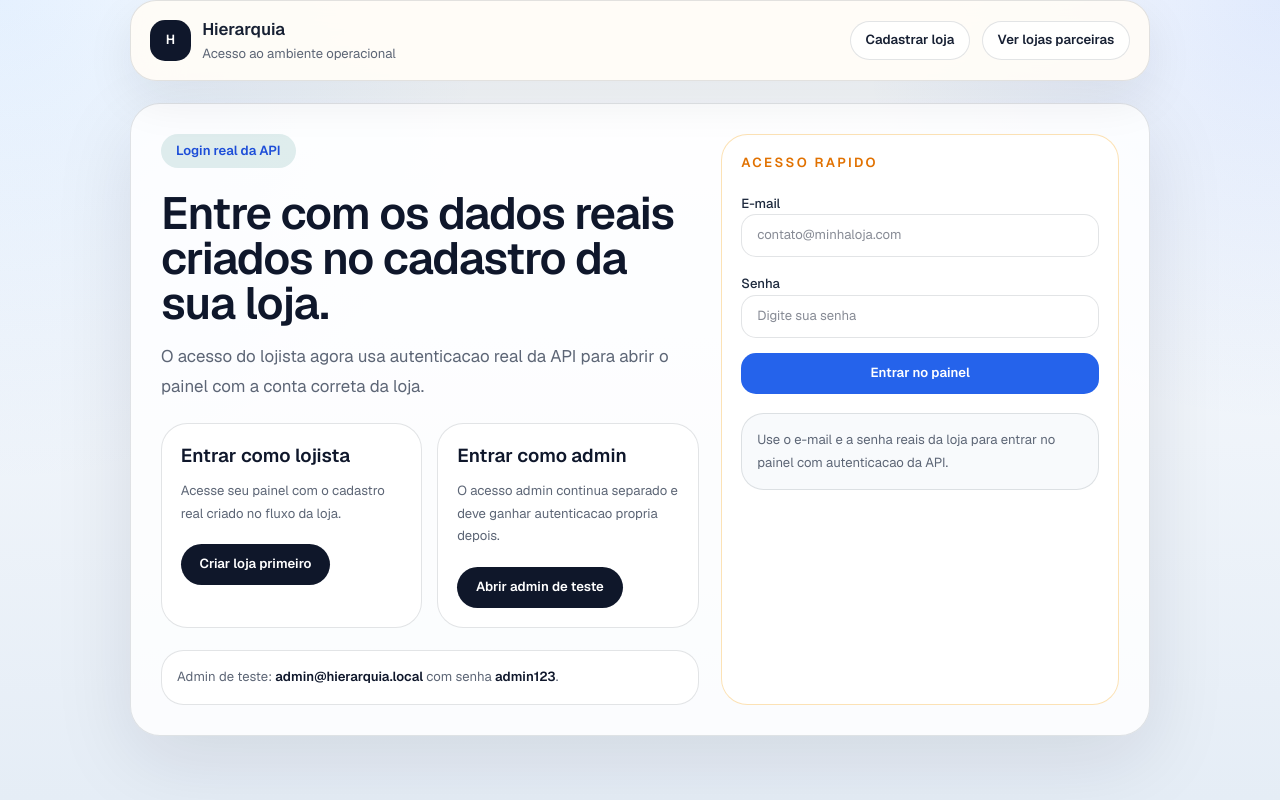
Test case: LoginPage › deve exigir email e senha antes de tentar login
The width and height of the screenshot is (1280, 800).
Click the button "Entrar no painel" at coordinates (920, 374), box [741,353,1099,394]
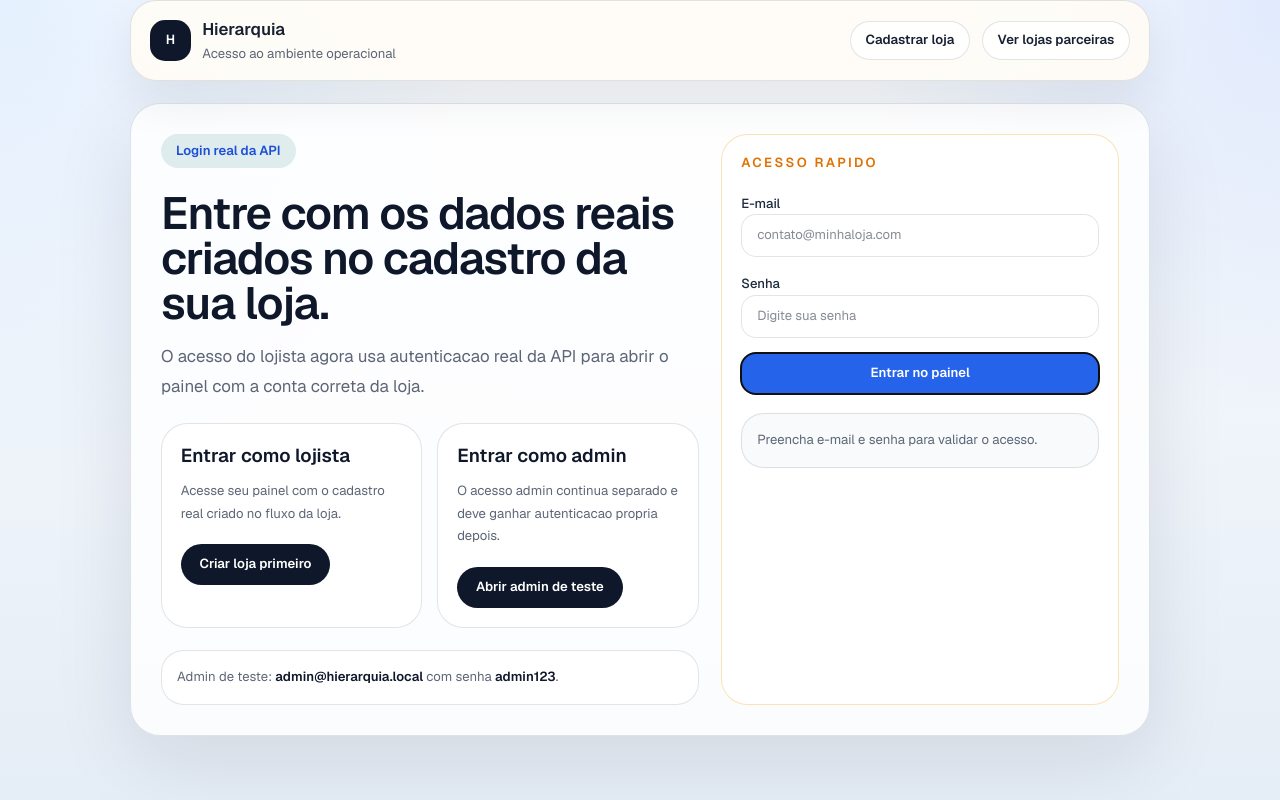
Check: the text "Preencha e-mail e senha para validar o acesso." is shown, box [741,413,1099,468]
